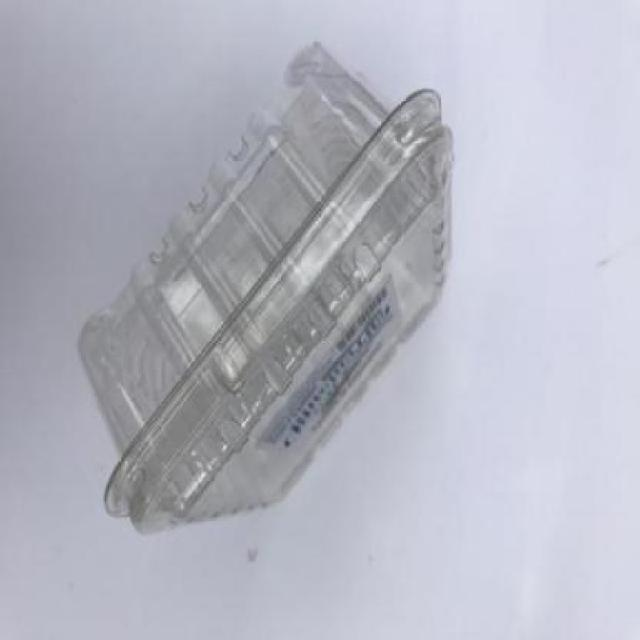PLASTIC: (79, 36, 458, 533), (103, 83, 454, 535)
